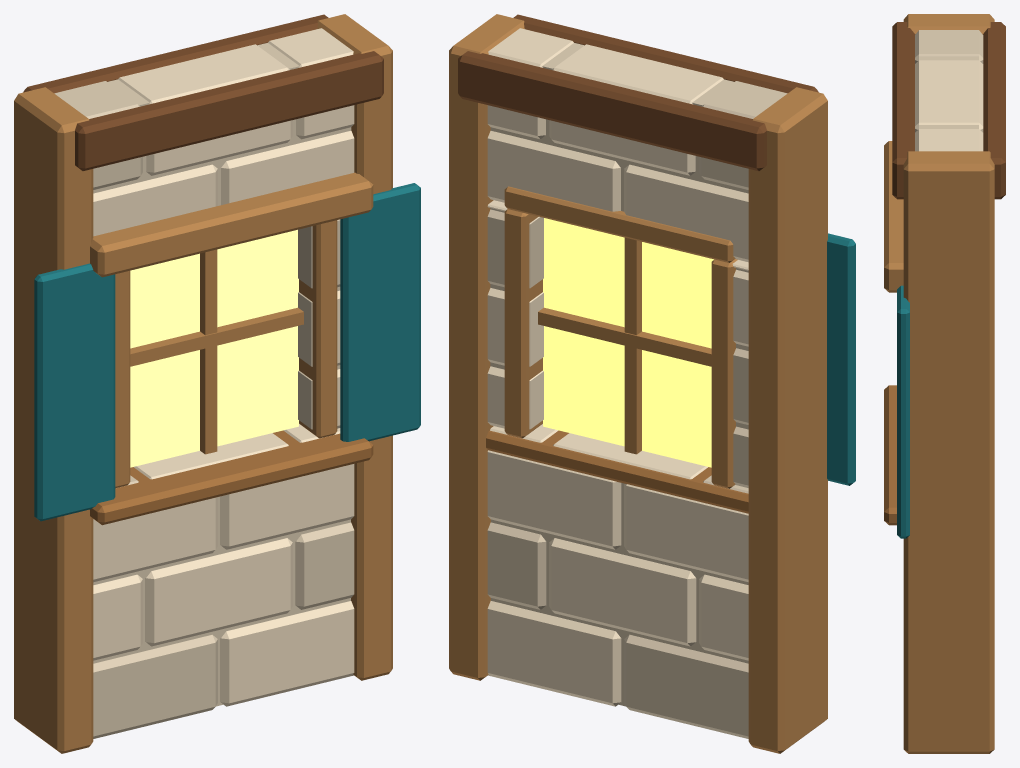
File: mod_wall_straight_window_1m.glb
The picture shows the model from 3 angles, left to right: view 1: azimuth 30°, elevation 25°; view 2: azimuth 150°, elevation 25°; view 3: azimuth 270°, elevation 25°; orthographic projection. The views are drawn at different scales.
Parts seen in each view (by area): view 1: mod_wall_straight_window_1m; view 2: mod_wall_straight_window_1m; view 3: mod_wall_straight_window_1m.
Boxes of the visible parts, bbox=[...] form: mod_wall_straight_window_1m: bbox=[14, 14, 420, 753]; mod_wall_straight_window_1m: bbox=[449, 14, 855, 753]; mod_wall_straight_window_1m: bbox=[884, 14, 1005, 753].
Bounding box in the file's own units: 1.28 × 2 × 0.375.
